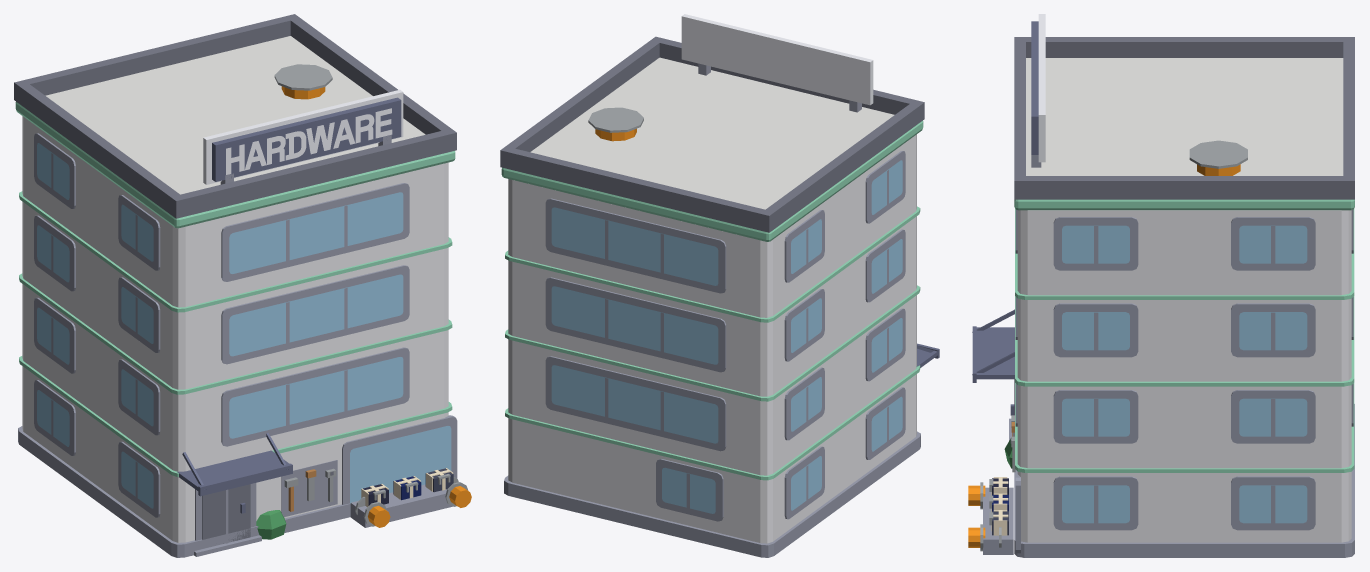
The model's file is shop-equipment-1x1-t4-tone-a.glb.
The picture shows the model from 3 angles, left to right: view 1: azimuth 30°, elevation 25°; view 2: azimuth 150°, elevation 25°; view 3: azimuth 270°, elevation 25°; orthographic projection. The views are drawn at different scales.
Visible parts, largest first — view 1: shop-equipment-1x1-t4-tone-a; view 2: shop-equipment-1x1-t4-tone-a; view 3: shop-equipment-1x1-t4-tone-a.
Part boxes in pixels (left/top/right/bottom): shop-equipment-1x1-t4-tone-a: left=14, top=14, right=471, bottom=557; shop-equipment-1x1-t4-tone-a: left=500, top=14, right=939, bottom=557; shop-equipment-1x1-t4-tone-a: left=968, top=14, right=1354, bottom=557.
Size of the model in its own units: 1.01 by 1.36 by 1.14.
1 material, 1 textured.
